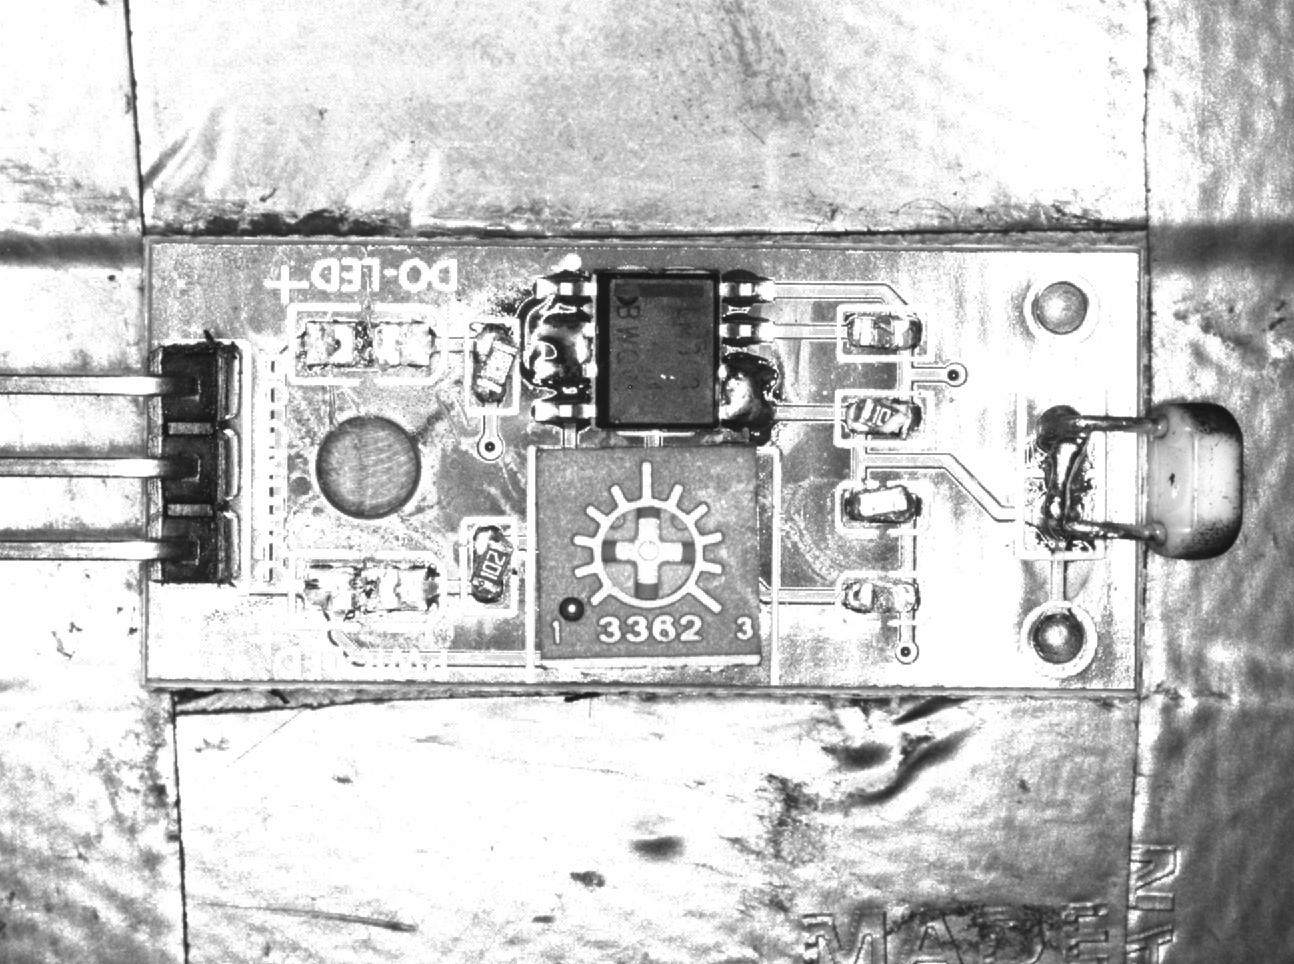bridge: (1023, 393, 1106, 553), (717, 353, 776, 440), (532, 314, 594, 393)
lifted: (459, 517, 517, 623), (836, 474, 929, 534), (463, 318, 520, 412), (838, 390, 934, 440)
miss: (840, 305, 933, 363), (838, 569, 925, 629)
